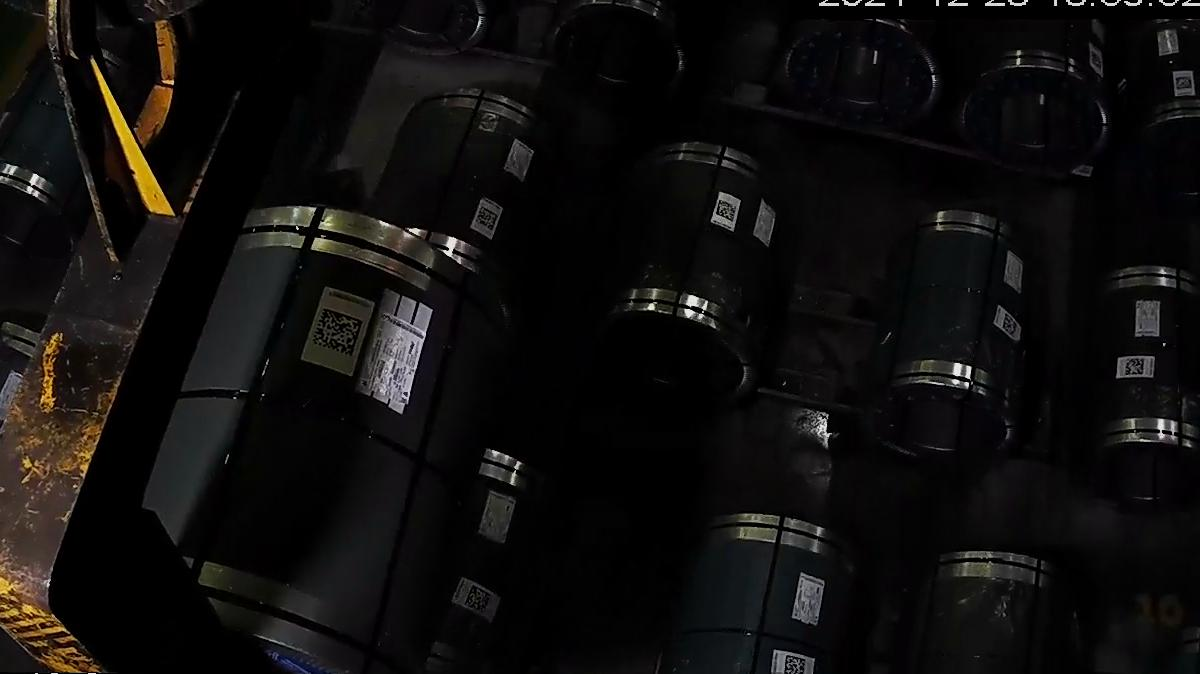data matrix: (305, 306, 368, 362), (463, 584, 496, 617), (471, 203, 502, 235), (712, 198, 740, 225), (782, 652, 810, 674), (1123, 355, 1148, 379), (1002, 312, 1020, 338), (1173, 75, 1195, 93), (1089, 50, 1105, 72)
